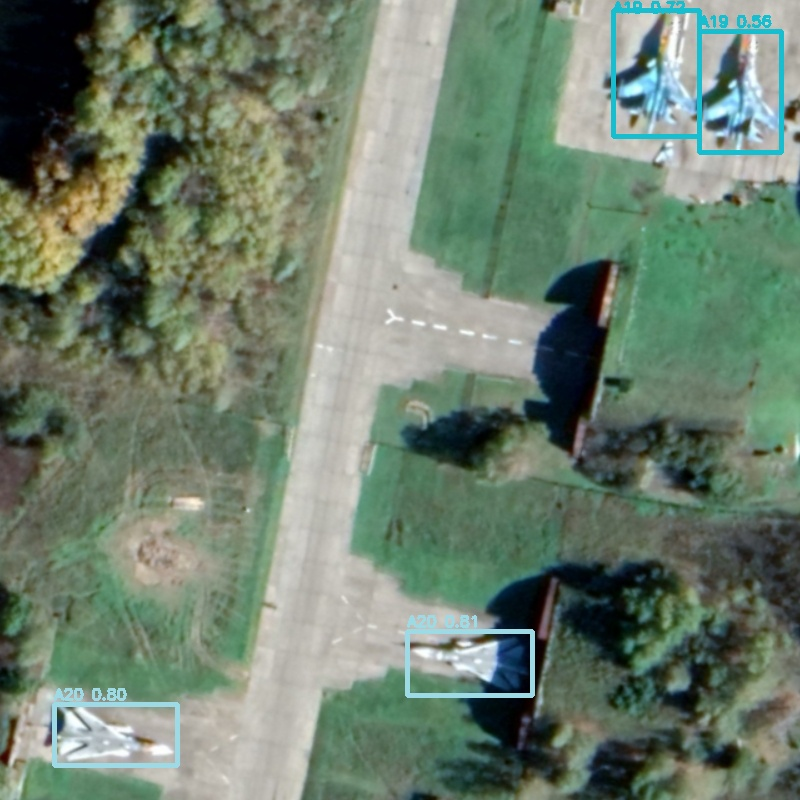A19: (613, 10, 699, 136), (699, 31, 781, 152)
A20: (407, 631, 532, 695), (54, 704, 177, 765)
